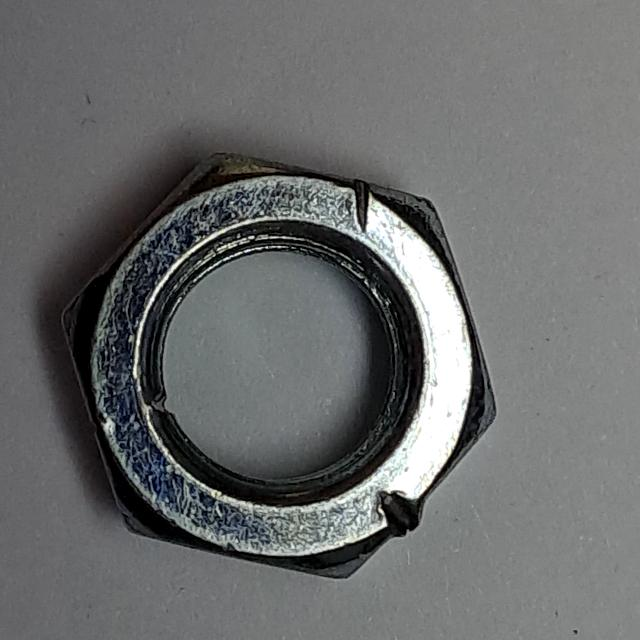Scratches: (44, 141, 513, 592)
